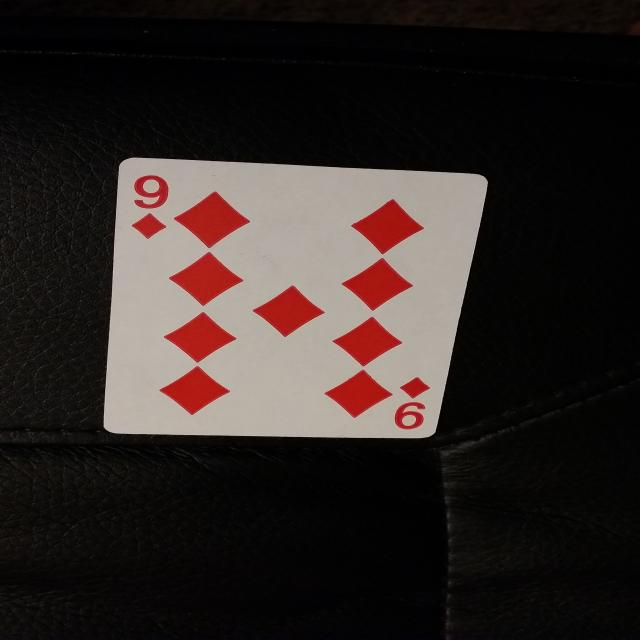9d: (117, 168, 192, 256), (381, 371, 440, 441)
